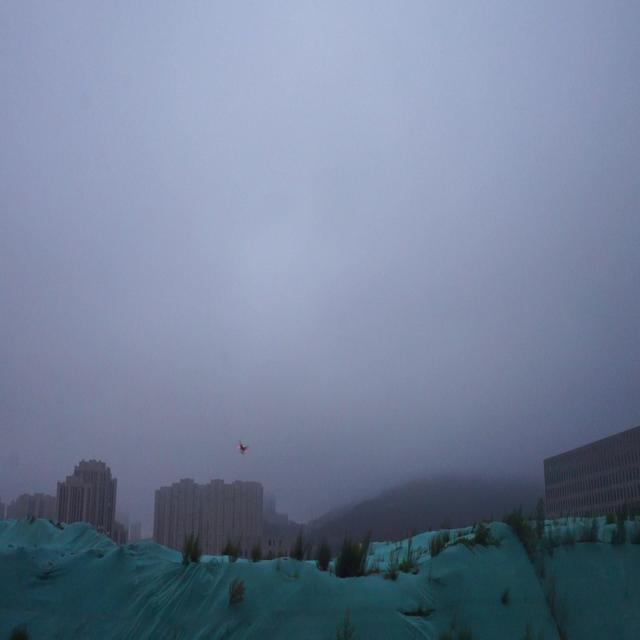drone: (237, 439, 249, 456)
